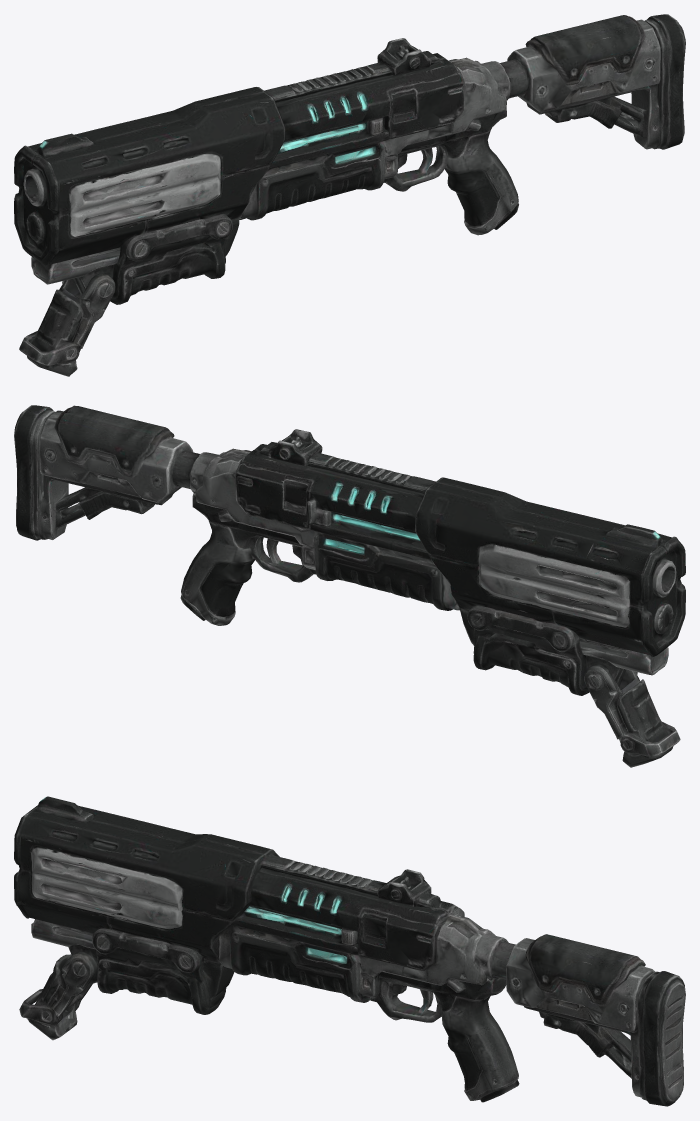
Rendered from Meshy_AI_Make_style_futuristic_1022125554_texture.glb.
3 renders of one model, top to bottom at view 1: azimuth 30°, elevation 25°; view 2: azimuth 150°, elevation 25°; view 3: azimuth 330°, elevation 25°, orthographic.
Size of the model in its own units: 1.9 by 0.676 by 0.2159.
Materials: 1 (1 with a texture image).
